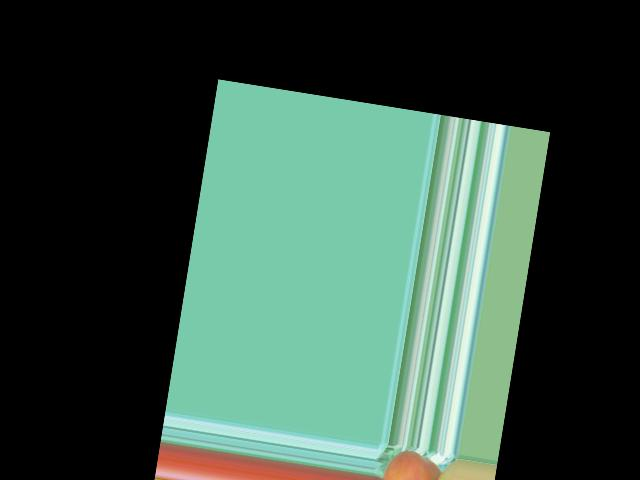tomato: (377, 447, 441, 480)
